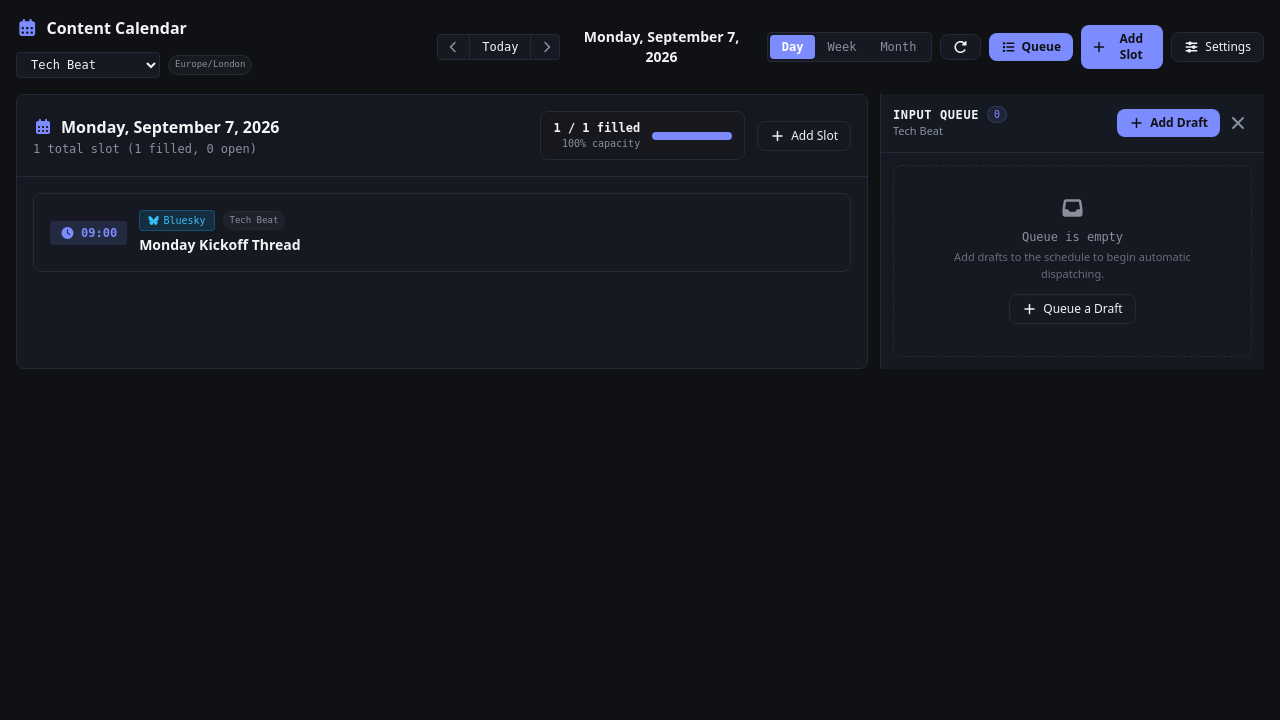
Test: CalendarPage › navigating prev and next updates period label
Expected: the text with test id "cal-period-label" shows "September 7, 2026", [584, 27, 739, 66]
Next day
Click the button with test id "cal-nav-next". click: (547, 47)
box: [531, 35, 562, 59]
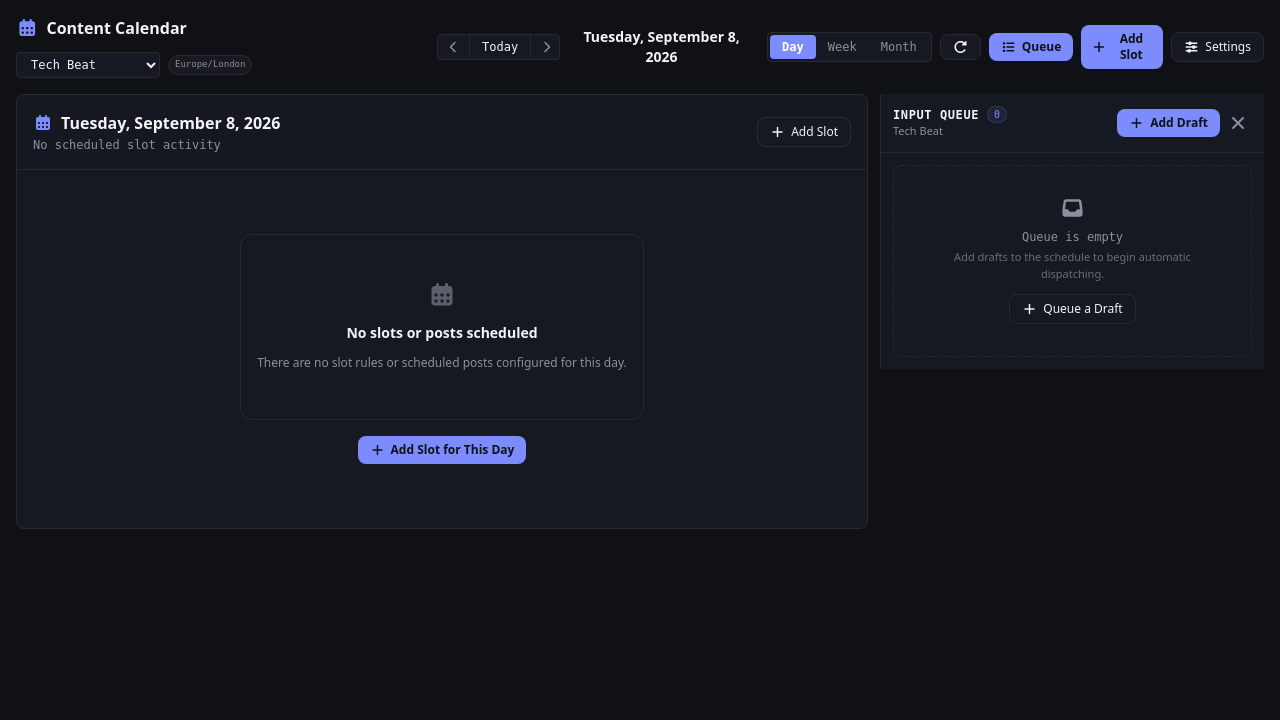
Now the text with test id "cal-period-label" shows "September 8, 2026", box [583, 27, 740, 66]
Prev day
Click the button with test id "cal-nav-prev". click: (454, 47)
box: [438, 35, 469, 59]
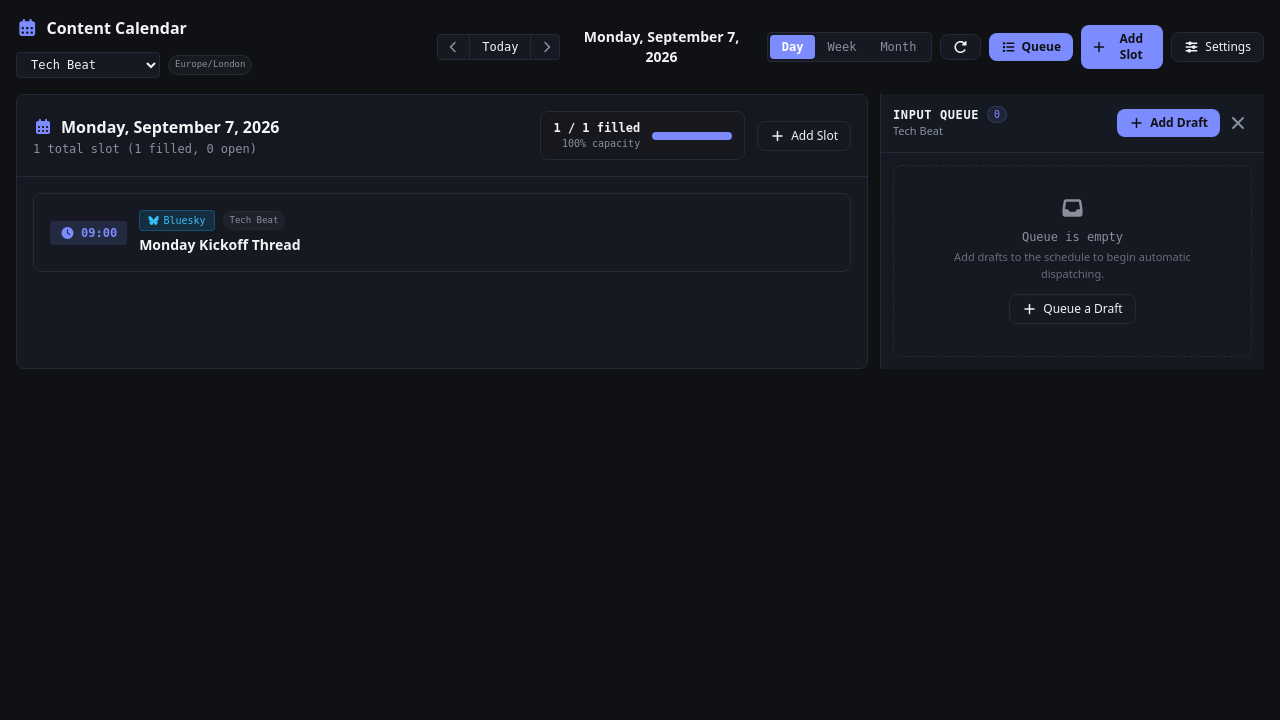
Now the text with test id "cal-period-label" shows "September 7, 2026", box [584, 27, 739, 66]
